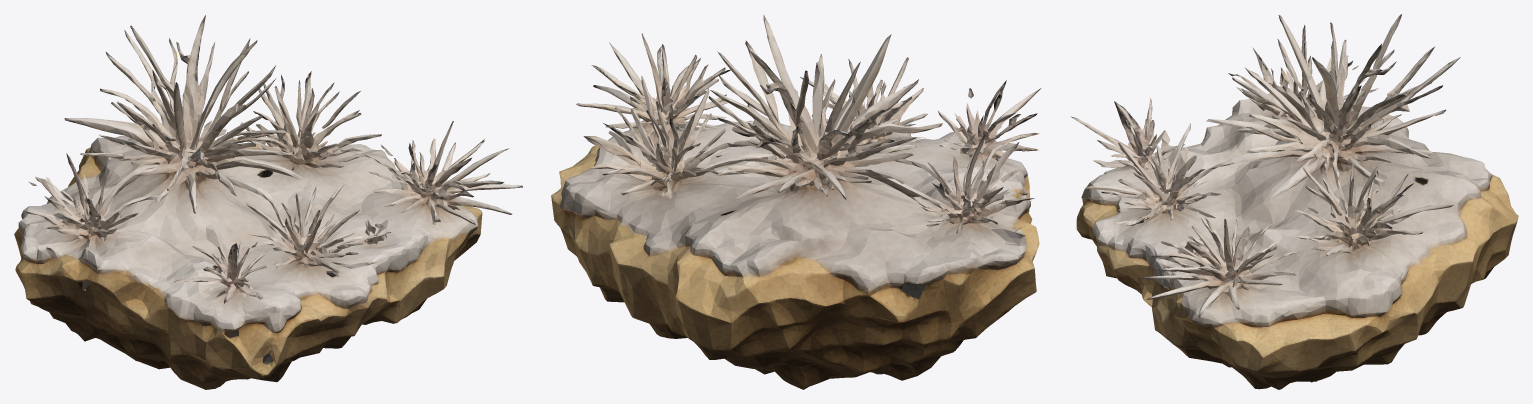
3 renders of one model, left to right at view 1: azimuth 30°, elevation 25°; view 2: azimuth 150°, elevation 25°; view 3: azimuth 270°, elevation 25°, orthographic. The views are drawn at different scales.
Parts seen in each view (by area): view 1: world; view 2: world; view 3: world.
Part boxes in pixels (x1=…): world: x1=14, y1=15, x2=522, y2=389; world: x1=551, y1=14, x2=1040, y2=389; world: x1=1071, y1=14, x2=1518, y2=389.
Size of the model in its own units: 0.1931 by 0.1348 by 0.1656.
1 material, 1 textured.
